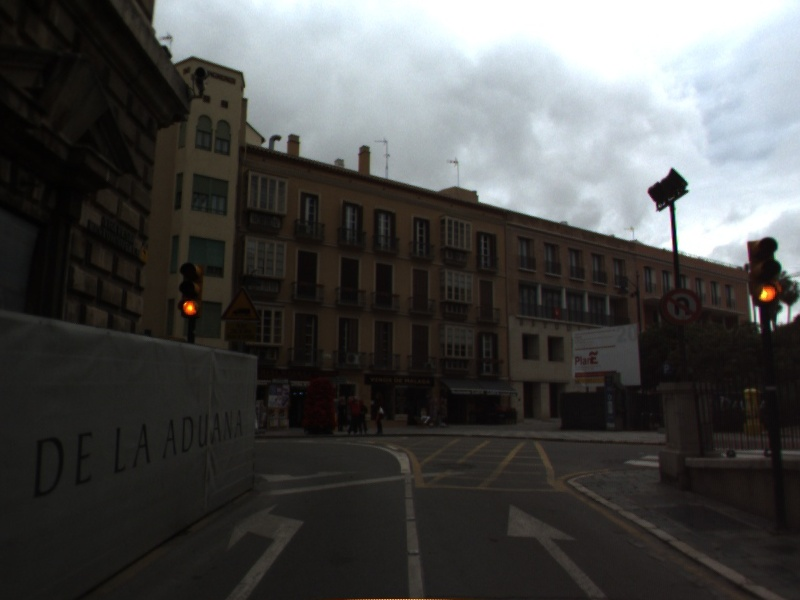LEFT: (220, 500, 306, 600)
STRAIGHT: (504, 501, 608, 600)
